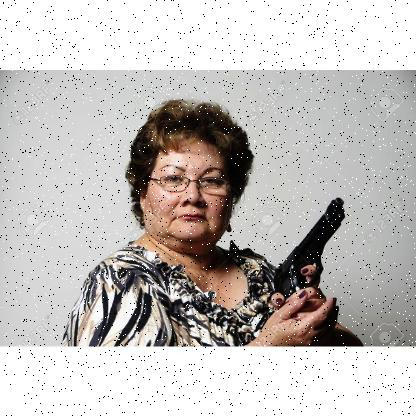gun: (272, 192, 344, 326)
